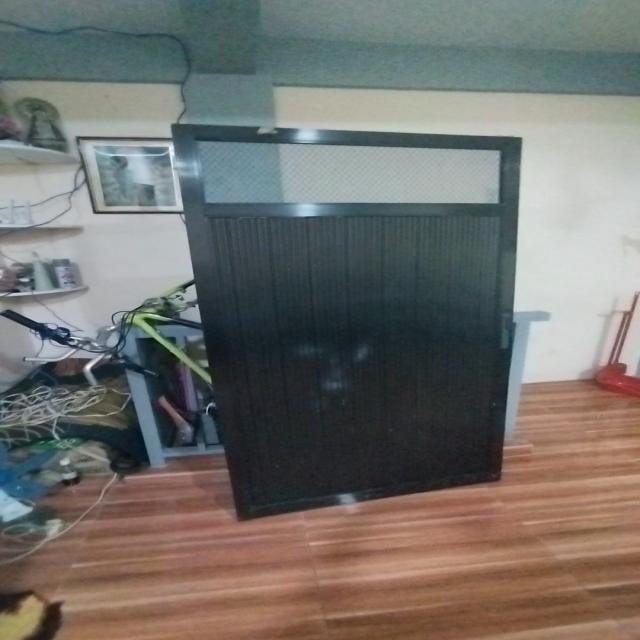door: (160, 115, 529, 523)
